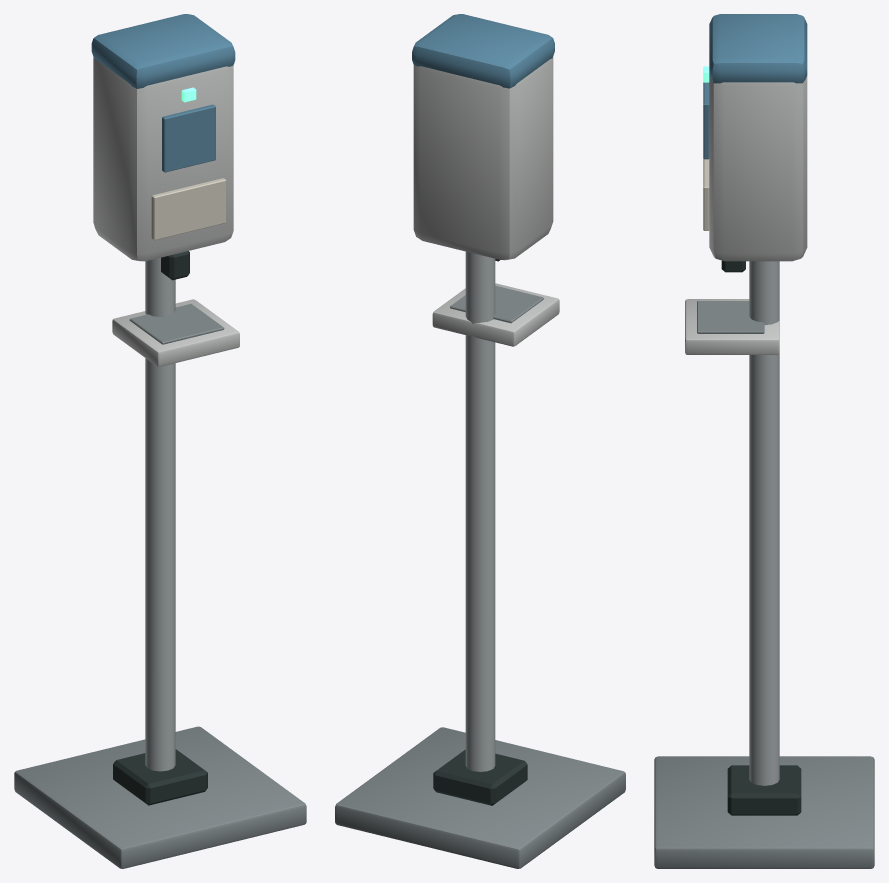
File: hand-sanitizer.glb
The picture shows the model from 3 angles, left to right: view 1: azimuth 30°, elevation 25°; view 2: azimuth 150°, elevation 25°; view 3: azimuth 270°, elevation 25°; orthographic projection. The views are drawn at different scales.
Parts seen in each view (by area): view 1: hand-sanitizer; view 2: hand-sanitizer; view 3: hand-sanitizer.
Boxes of the visible parts, left/top/right/bottom form: hand-sanitizer: left=14, top=14, right=306, bottom=868; hand-sanitizer: left=335, top=14, right=625, bottom=868; hand-sanitizer: left=654, top=14, right=874, bottom=868.
Bounding box in the file's own units: 0.36 × 1.42 × 0.36.
